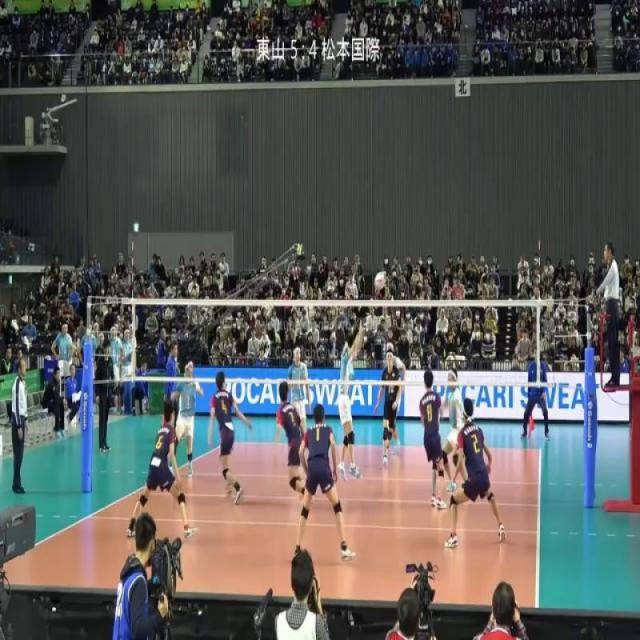volleyball: (374, 270, 385, 290)
